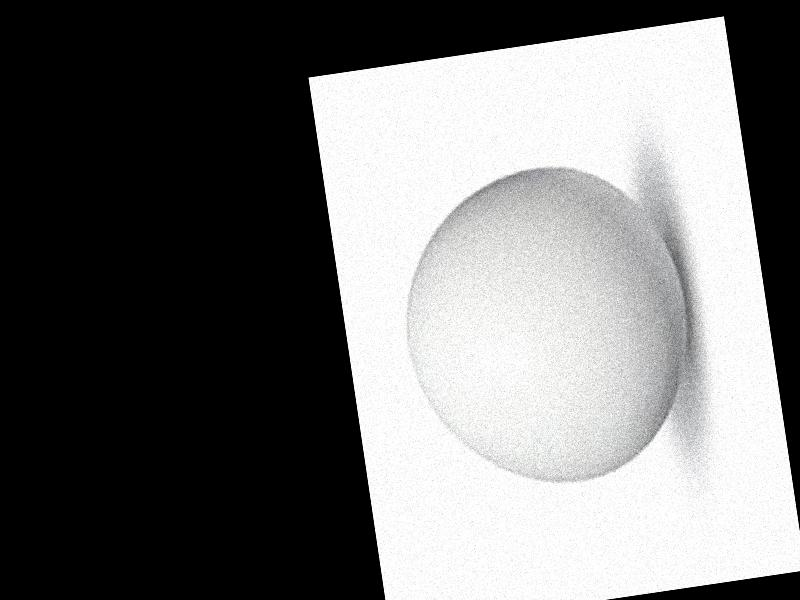Eggs: (384, 155, 706, 501)
